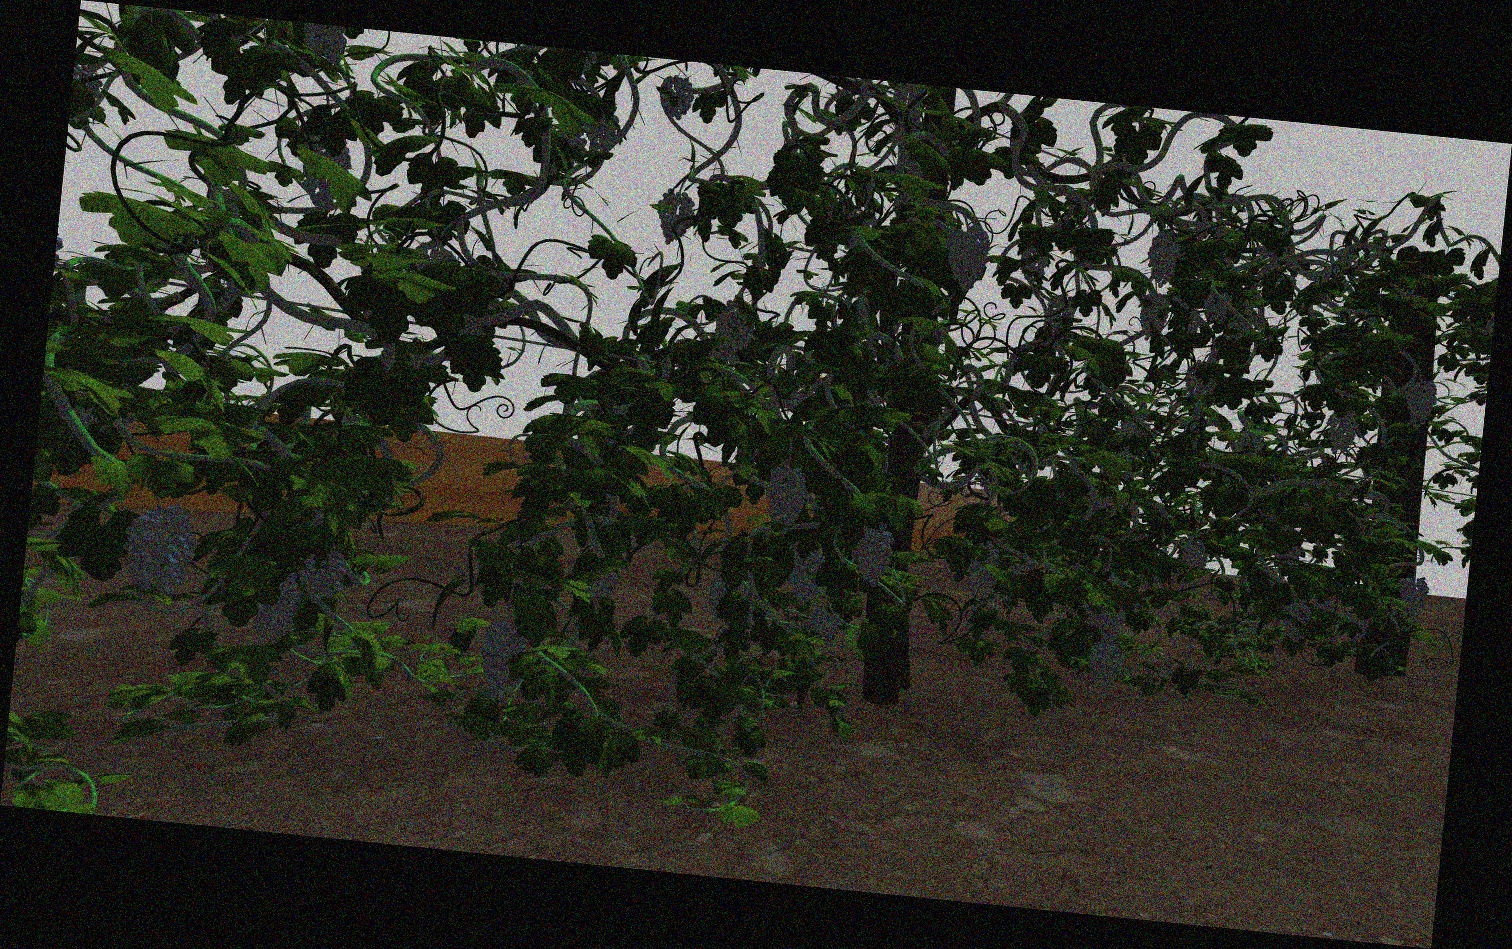grape: (120, 505, 191, 597), (477, 619, 527, 706), (251, 572, 298, 645), (849, 522, 896, 591), (763, 461, 809, 531), (943, 225, 991, 292), (300, 542, 347, 604), (786, 540, 825, 606), (714, 301, 755, 360), (966, 540, 1000, 604), (1146, 227, 1180, 288), (657, 190, 693, 246), (1087, 642, 1124, 691), (1405, 378, 1438, 426), (1138, 291, 1170, 340), (658, 75, 693, 119), (1325, 409, 1358, 455), (587, 572, 620, 613), (1397, 575, 1429, 618), (1093, 601, 1127, 640), (706, 574, 730, 624), (806, 607, 842, 640), (1203, 290, 1232, 324), (1179, 540, 1210, 570), (1281, 598, 1313, 622)
